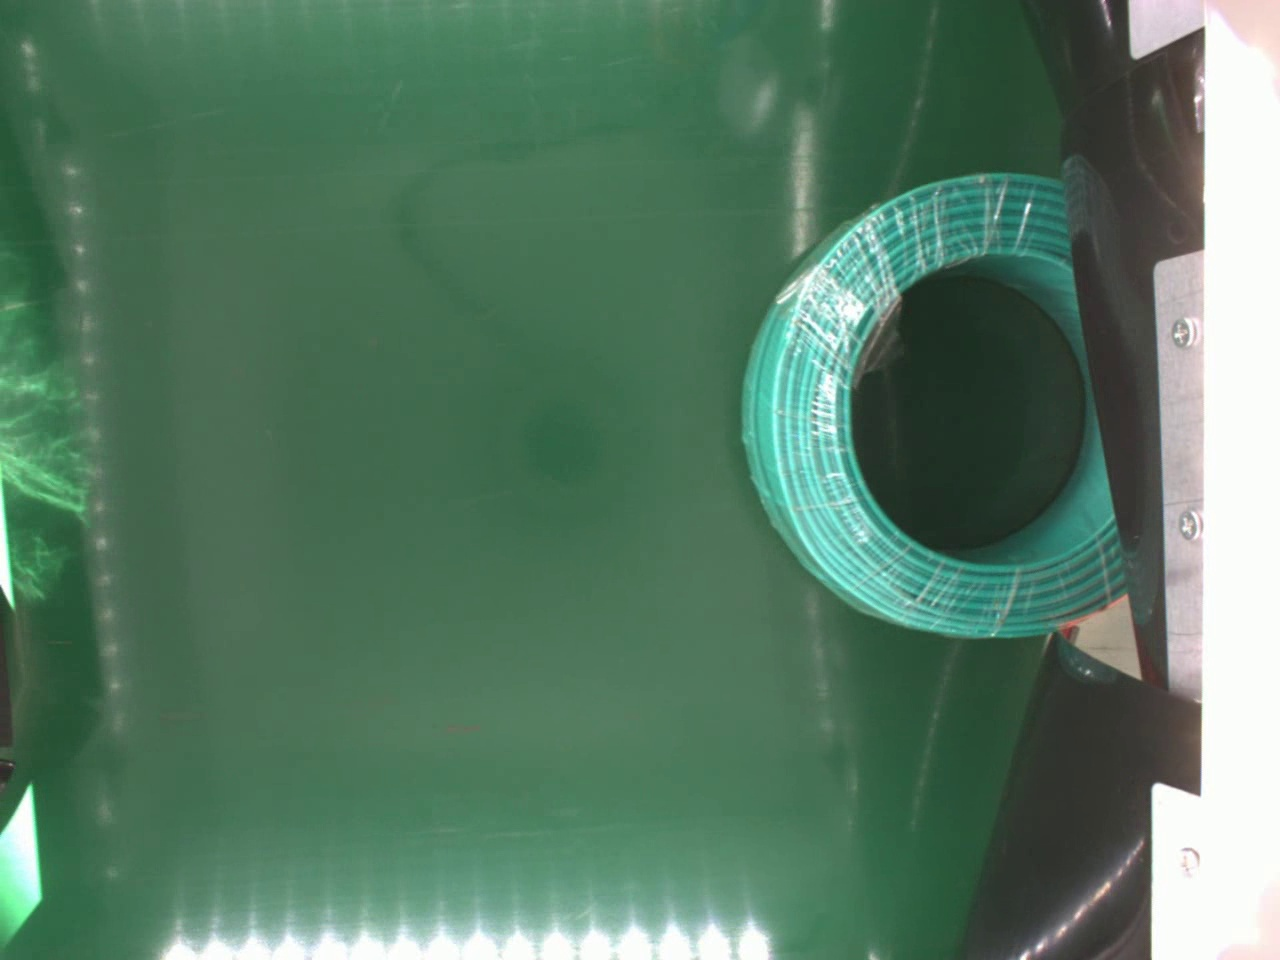green: (736, 172, 1132, 634)
